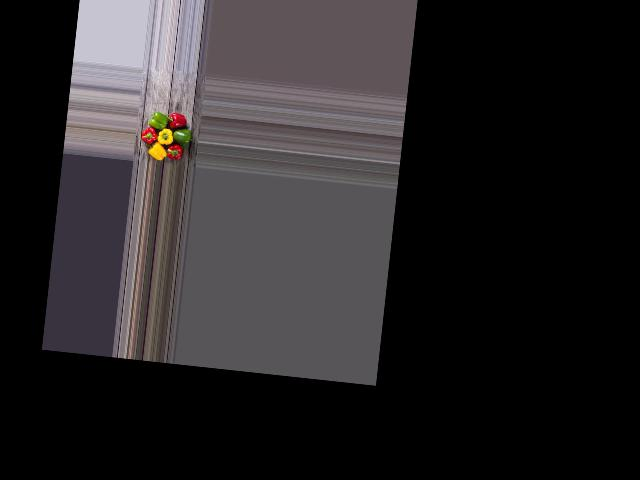bell_pepper: (162, 143, 183, 164)
